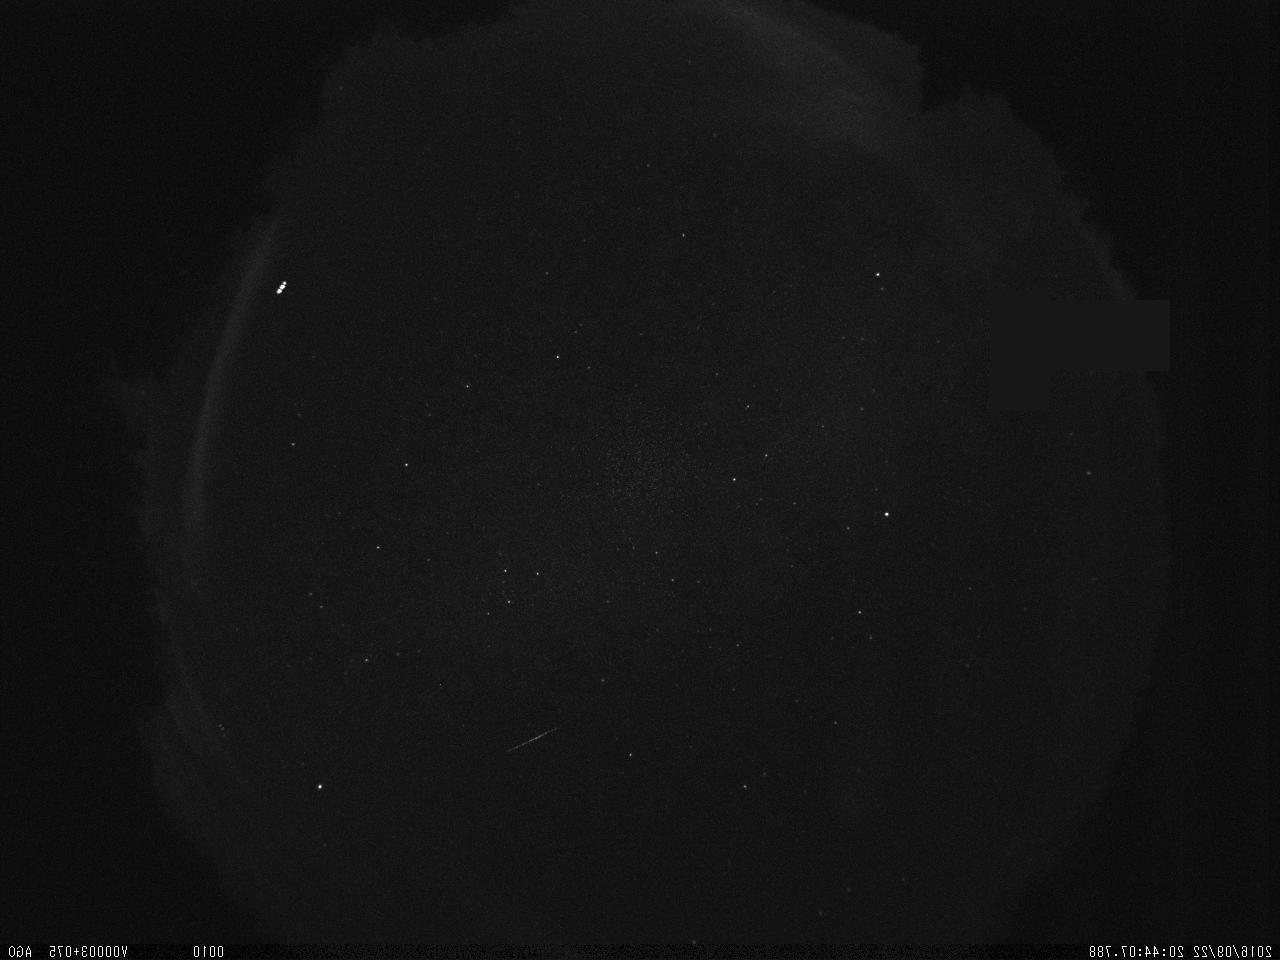meteor: (500, 713, 566, 761)
satelite: (270, 272, 292, 302)
